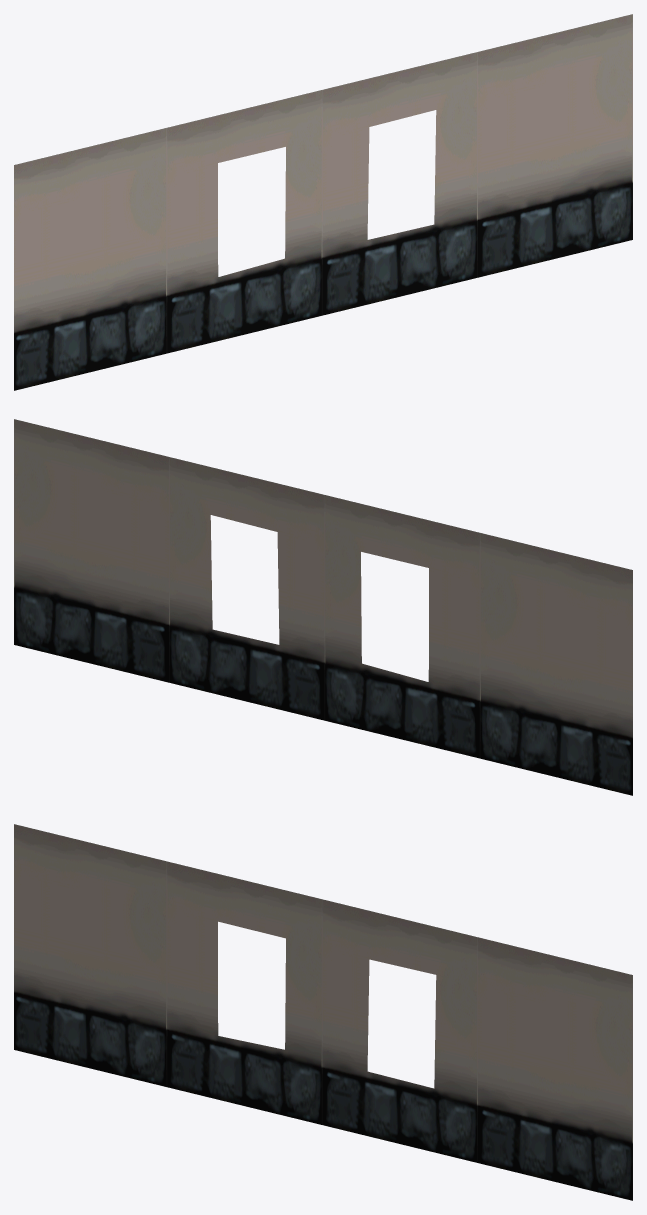
File: W_AI3_xffx [Grau]_593.glb
The picture shows the model from 3 angles, top to bottom: view 1: azimuth 30°, elevation 25°; view 2: azimuth 150°, elevation 25°; view 3: azimuth 330°, elevation 25°; orthographic projection.
Parts seen in each view (by area): view 1: polySurfaceShape834; view 2: polySurfaceShape834; view 3: polySurfaceShape834.
Part boxes in pixels (x1,y1,x2,y2): polySurfaceShape834: [14, 14, 632, 390]; polySurfaceShape834: [14, 419, 632, 795]; polySurfaceShape834: [14, 824, 632, 1200].
Bounding box in the file's own units: 1 × 0.3486 × 1.52e-08.
Materials: 1 (1 with a texture image).
